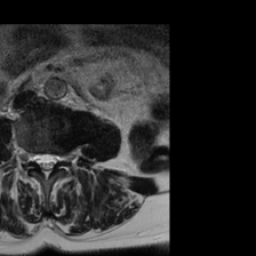CCS_normal: (41, 147, 49, 184)
LFS_stenosis: (57, 144, 66, 168)
LLS_normal: (49, 146, 57, 175)
RFS_normal: (25, 143, 33, 167)
RLS_normal: (33, 145, 41, 171)
